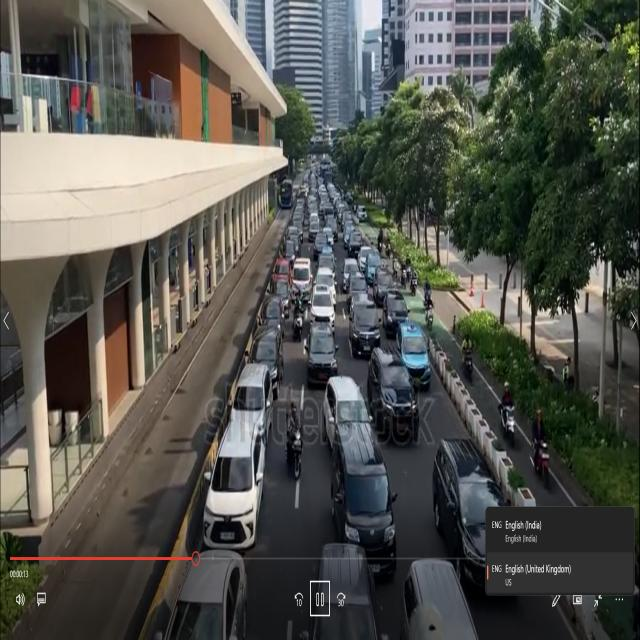Ambulance: (290, 252, 314, 310)
